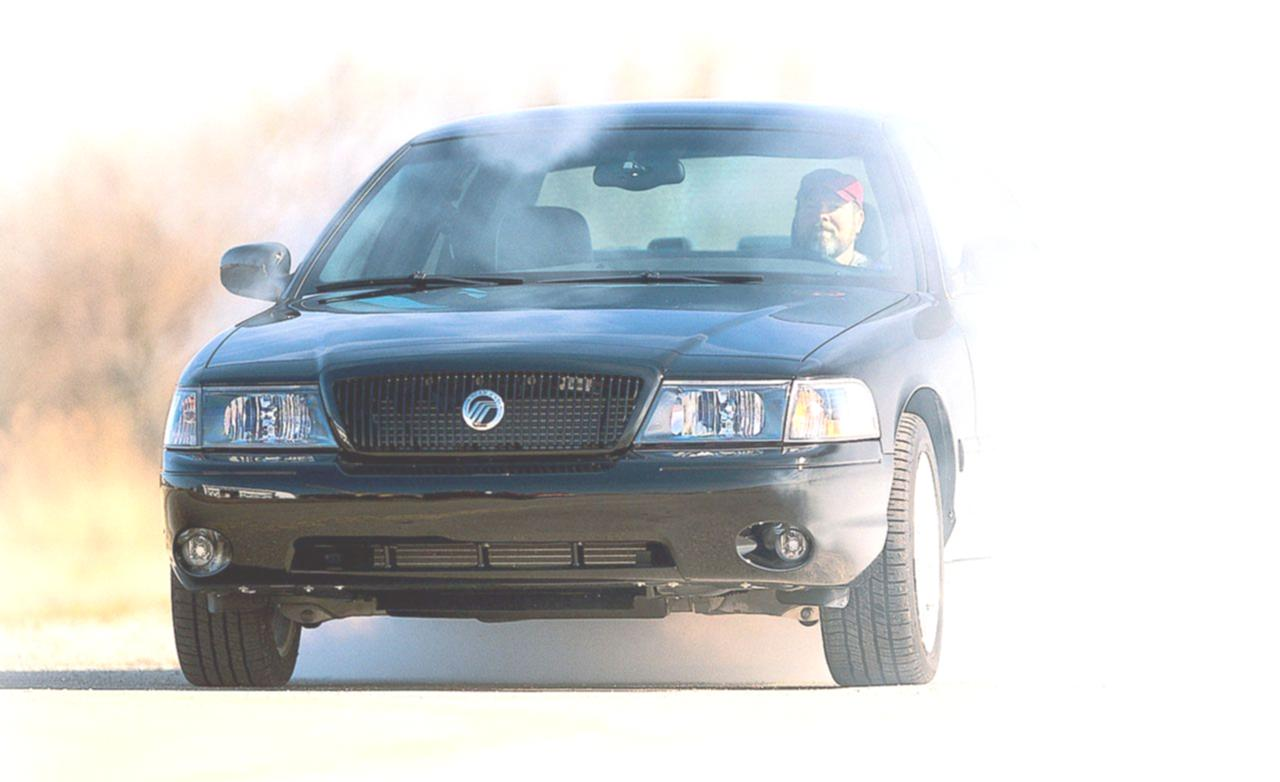Mercury: (454, 382, 528, 450)
